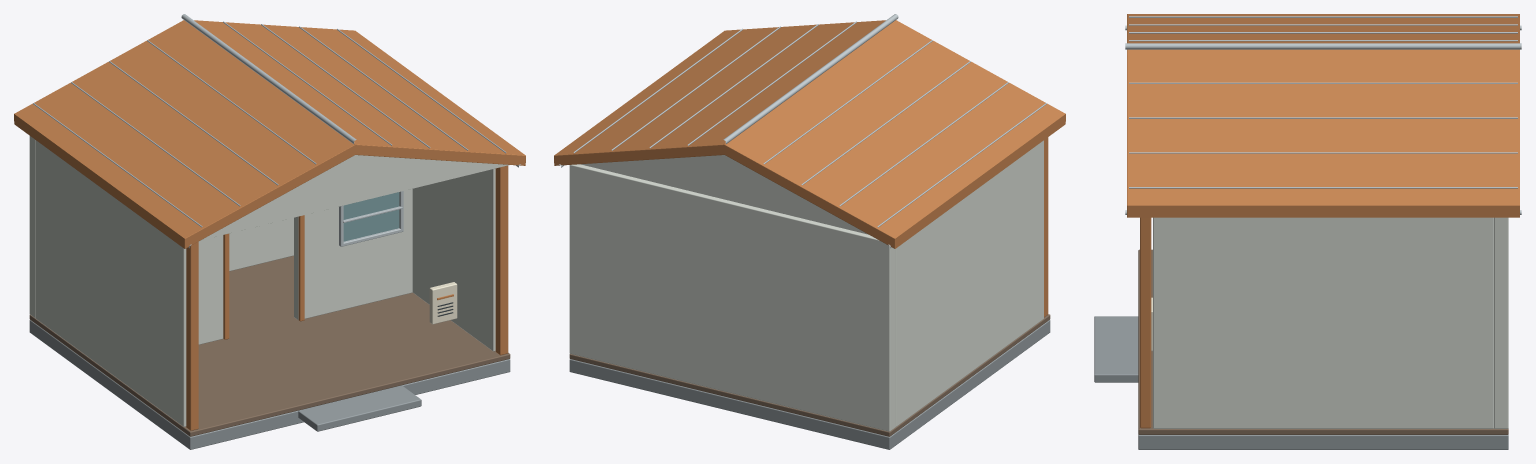
The model's file is abandoned-weather-station-and-storm-shelter-storm-shel-053f02b8__31004.glb.
The picture shows the model from 3 angles, left to right: view 1: azimuth 30°, elevation 25°; view 2: azimuth 150°, elevation 25°; view 3: azimuth 270°, elevation 25°; orthographic projection. The views are drawn at different scales.
Parts seen in each view (by area): view 1: storm-shelter-hut; view 2: storm-shelter-hut; view 3: storm-shelter-hut.
Boxes of the visible parts, x1,y1,x2,y2 form: storm-shelter-hut: [14, 14, 525, 449]; storm-shelter-hut: [554, 14, 1065, 449]; storm-shelter-hut: [1094, 14, 1521, 449].
Size of the model in its own units: 4.89 by 3.78 by 4.61.
